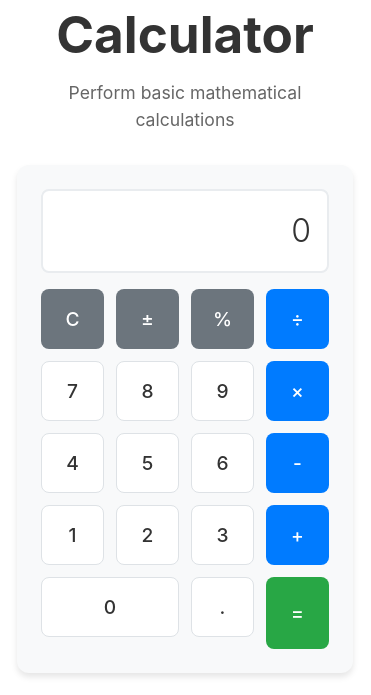
Calculator › inputs single digit numbers
Click the button "5".
click(148, 463)  # box [116, 433, 179, 493]
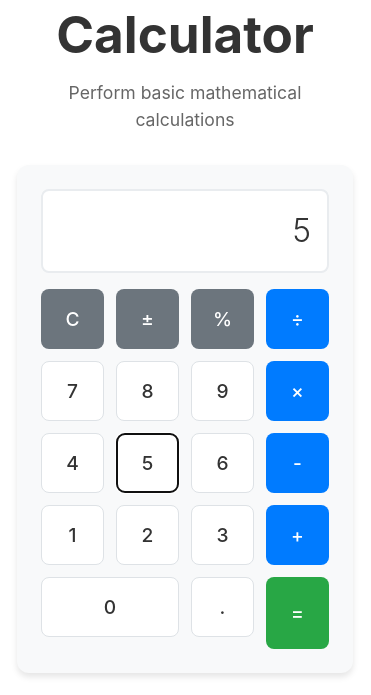
Check: the text "5" is shown, box [292, 207, 311, 255]
